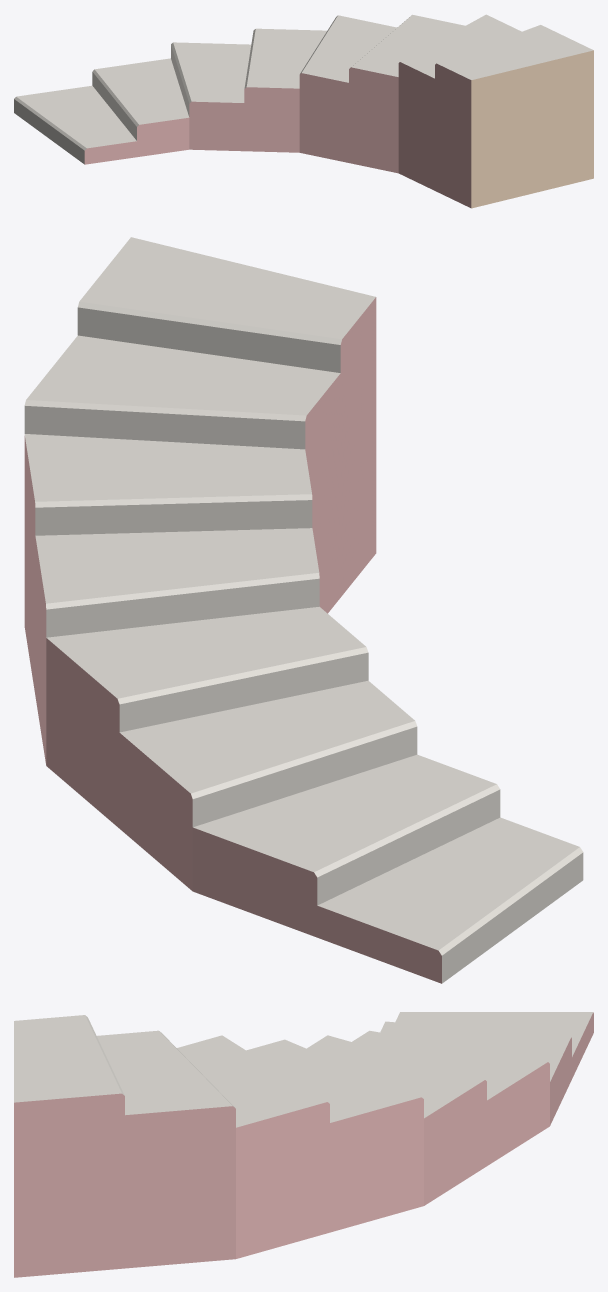
Rendered from Tiered_Walkway_Steps_Curve_Short_3x3.glb.
3 renders of one model, top to bottom at view 1: azimuth 30°, elevation 25°; view 2: azimuth 150°, elevation 25°; view 3: azimuth 270°, elevation 25°, orthographic. The views are drawn at different scales.
Parts seen in each view (by area): view 1: Tiered_Walkway_Steps_Curve_Short_3x3; view 2: Tiered_Walkway_Steps_Curve_Short_3x3; view 3: Tiered_Walkway_Steps_Curve_Short_3x3.
Part boxes in pixels (box(x1,y1,x2,y2)): Tiered_Walkway_Steps_Curve_Short_3x3: box(14, 14, 593, 208); Tiered_Walkway_Steps_Curve_Short_3x3: box(24, 237, 583, 983); Tiered_Walkway_Steps_Curve_Short_3x3: box(14, 1012, 593, 1277).
Size of the model in its own units: 300 by 100 by 300.
